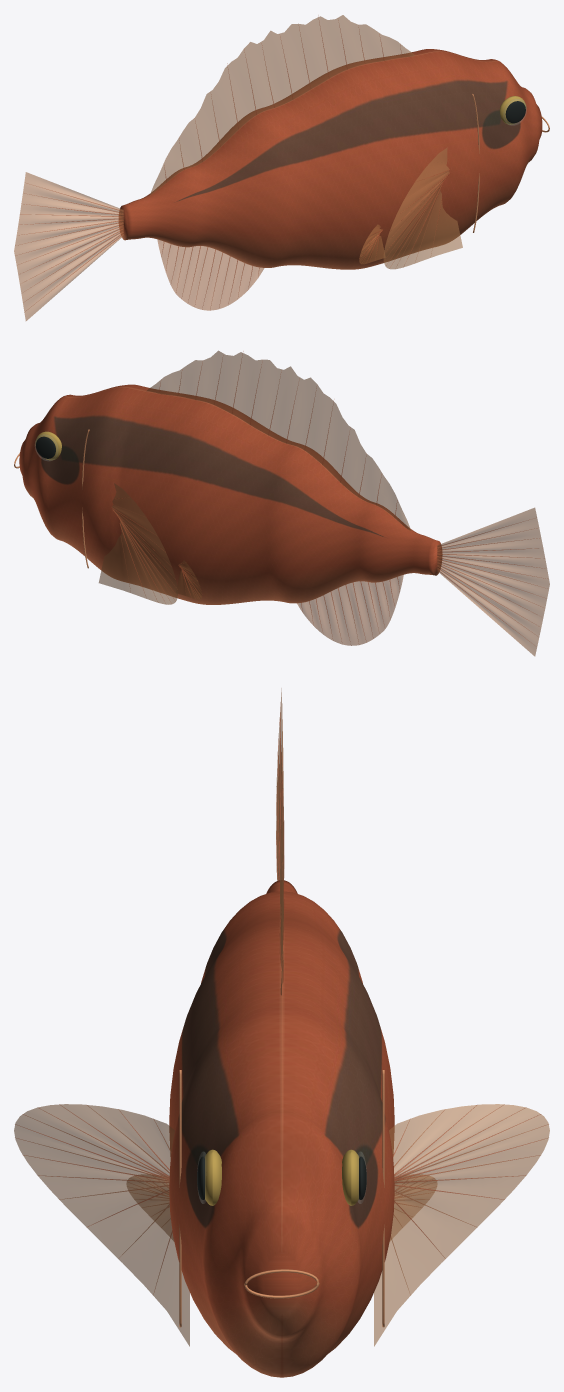
File: hawk-desktop.glb
The picture shows the model from 3 angles, top to bottom: view 1: azimuth 30°, elevation 25°; view 2: azimuth 150°, elevation 25°; view 3: azimuth 270°, elevation 25°; orthographic projection. The views are drawn at different scales.
Parts seen in each view (by area): view 1: skin, dorsal, tail, pectoral-left, anal, dorsal-ray, pelvic-left; view 2: skin, dorsal, tail, pectoral-left, anal, dorsal-ray, pelvic-left; view 3: skin, pectoral-left, dorsal-ray, pelvic-left, operculum, eye-iris--1, tail, dorsal.
Part boxes in pixels (left/top/right/bottom): skin: left=119, top=49, right=542, bottom=269; dorsal: left=150, top=15, right=414, bottom=194; tail: left=14, top=172, right=123, bottom=320; pectoral-left: left=383, top=147, right=462, bottom=269; anal: left=157, top=239, right=264, bottom=310; dorsal-ray: left=18, top=22, right=449, bottom=310; pelvic-left: left=359, top=224, right=385, bottom=264; skin: left=19, top=384, right=442, bottom=604; dorsal: left=147, top=350, right=411, bottom=530; tail: left=437, top=507, right=549, bottom=656; pectoral-left: left=99, top=483, right=177, bottom=604; anal: left=297, top=575, right=403, bottom=645; dorsal-ray: left=111, top=351, right=547, bottom=641; pelvic-left: left=176, top=560, right=202, bottom=599; skin: left=169, top=880, right=394, bottom=1377; pectoral-left: left=14, top=1104, right=549, bottom=1346; dorsal-ray: left=15, top=712, right=548, bottom=1288; pelvic-left: left=127, top=1174, right=436, bottom=1240; operculum: left=179, top=1070, right=384, bottom=1327; eye-iris--1: left=204, top=1149, right=359, bottom=1205; tail: left=276, top=688, right=283, bottom=880; dorsal: left=280, top=753, right=283, bottom=995.
Bounding box in the file's own units: 0.5972 × 0.2929 × 0.2852.
Materials: 11 (1 with a texture image).
